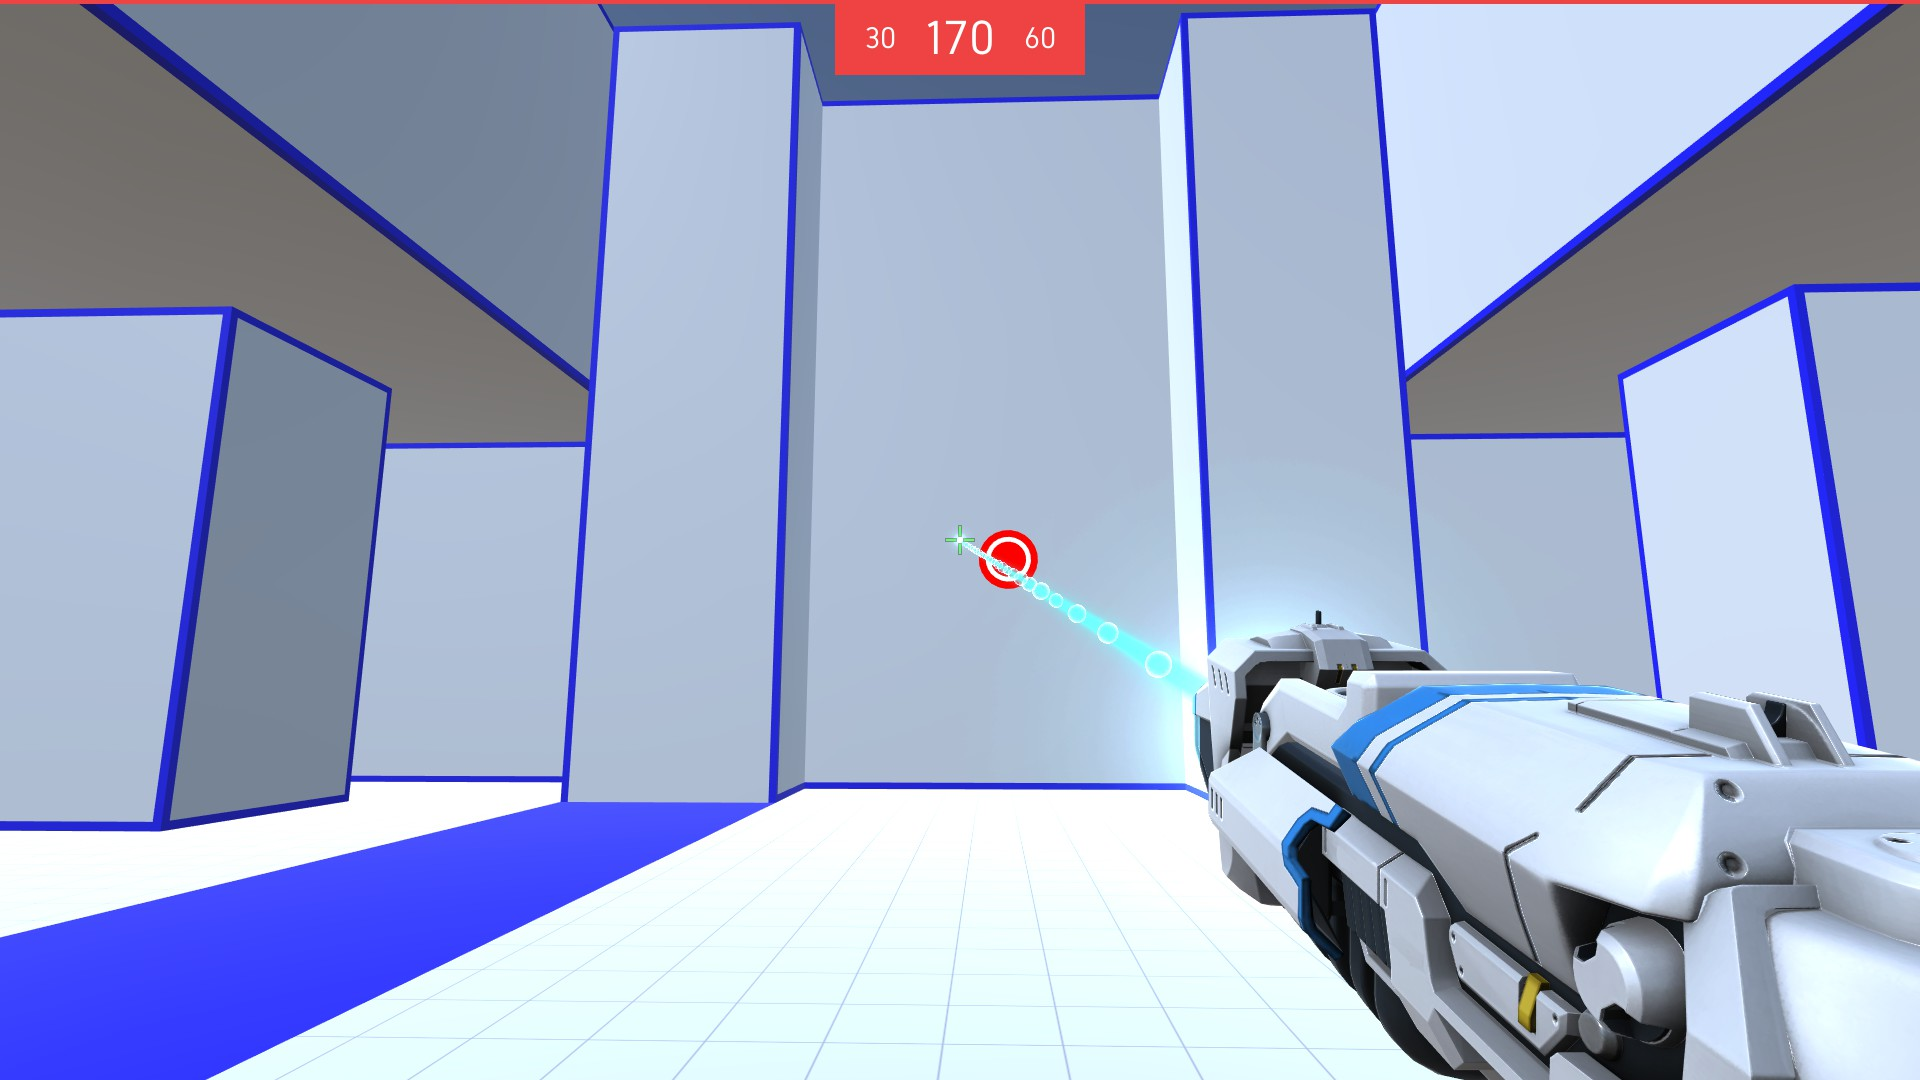target: (977, 530, 1043, 592)
